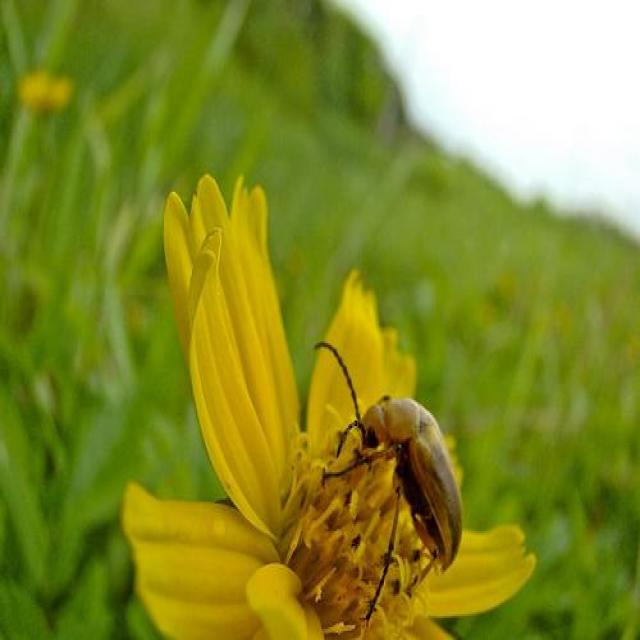BlisterBeetle-Adult-: (308, 336, 466, 627)
